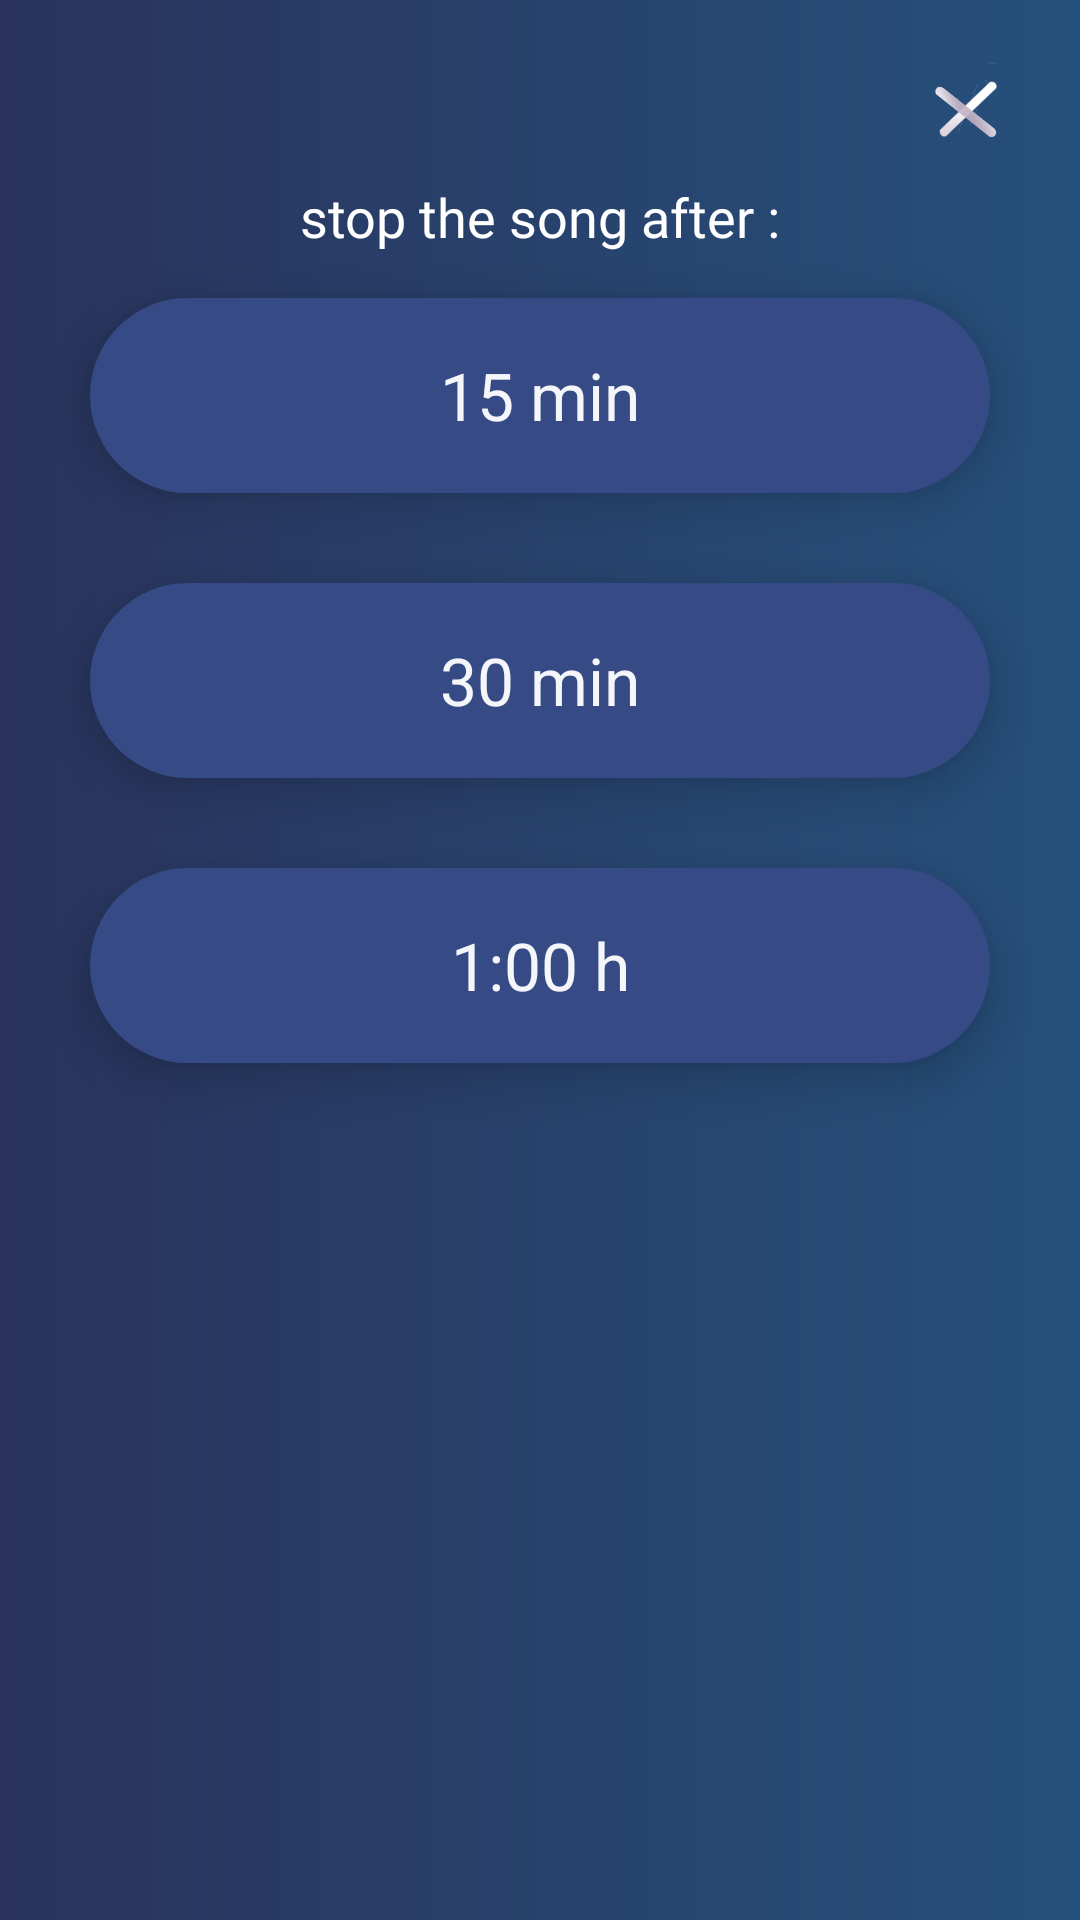

Where icons sit on this 1080×1920 app screen, as (x1, y1, x2, y2):
close: (935, 62, 997, 137)
